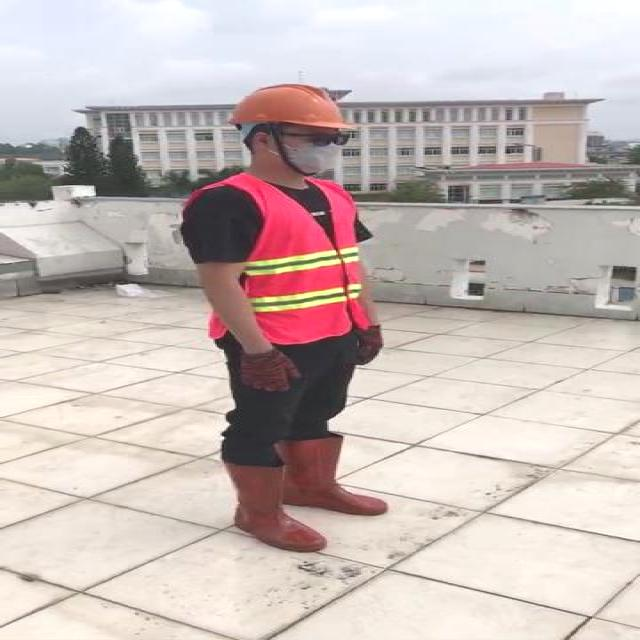boots: (224, 464, 325, 551), (278, 438, 388, 516)
face_mask: (279, 126, 354, 174)
glasses: (294, 130, 356, 151)
hand_glove: (236, 349, 304, 393), (356, 325, 384, 367)
head_helmet: (225, 81, 356, 136)
person: (170, 74, 406, 557)
vest: (204, 176, 370, 344)
